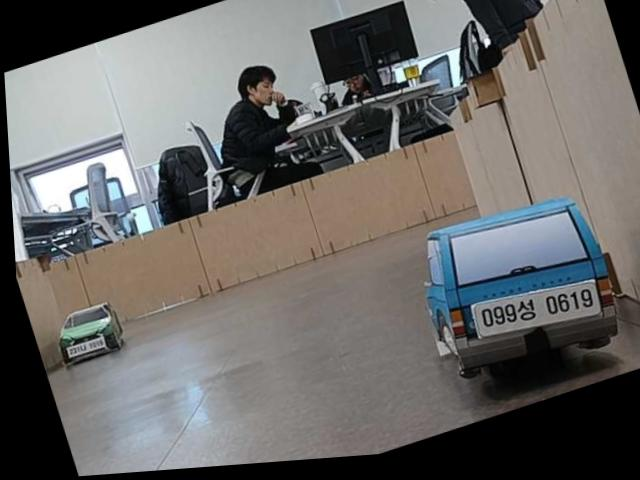car: (405, 179, 633, 399), (50, 299, 130, 369)
id: (467, 264, 605, 352), (66, 336, 106, 358)
